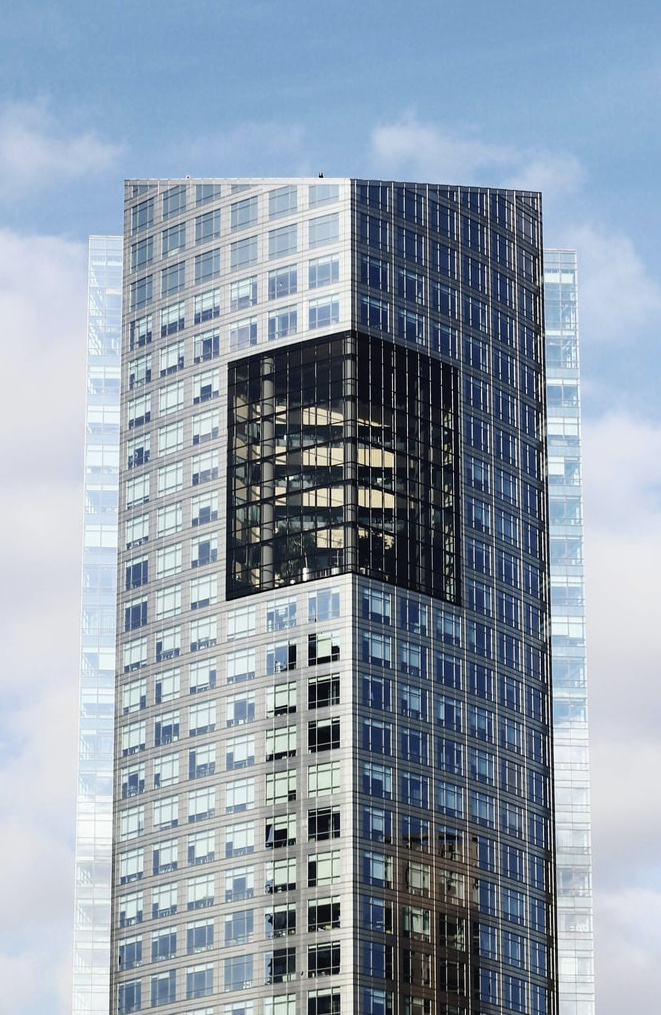Sky Building: (111, 159, 567, 997)
